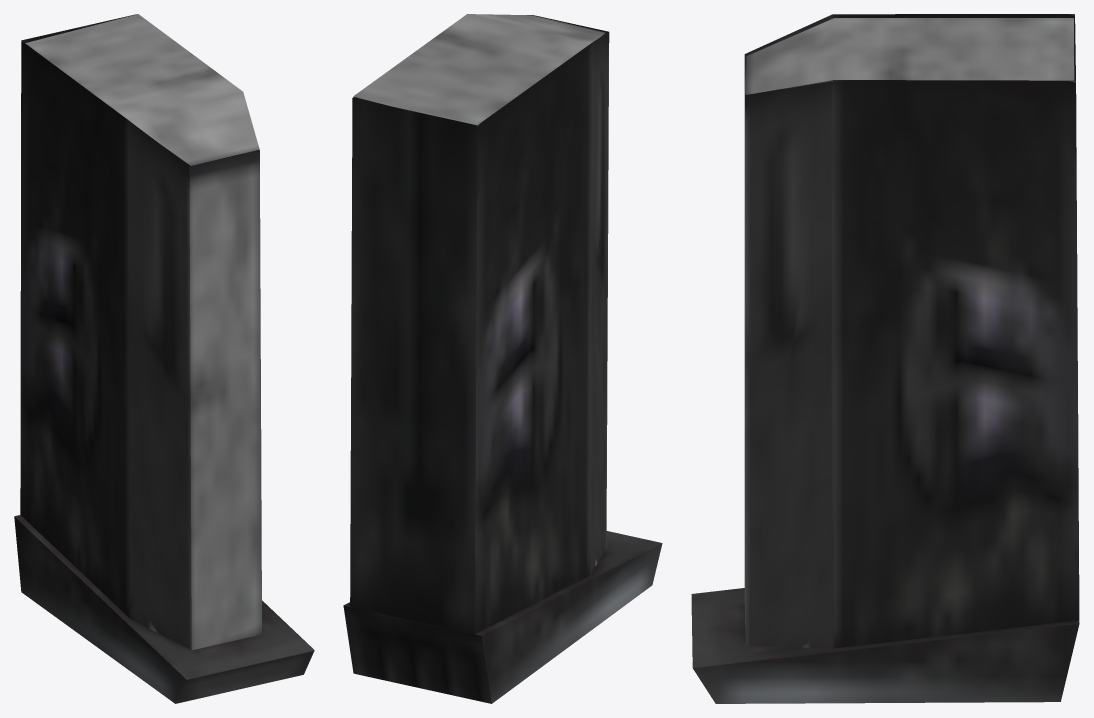
File: gaussammo.obj
The picture shows the model from 3 angles, left to right: view 1: azimuth 30°, elevation 25°; view 2: azimuth 150°, elevation 25°; view 3: azimuth 270°, elevation 25°; orthographic projection. The views are drawn at different scales.
Parts seen in each view (by area): view 1: gauss_ptl; view 2: gauss_ptl; view 3: gauss_ptl.
Boxes of the visible parts, bbox=[...] form: gauss_ptl: bbox=[14, 14, 314, 703]; gauss_ptl: bbox=[343, 14, 662, 703]; gauss_ptl: bbox=[691, 14, 1079, 703].
Bounding box in the file's own units: 15.06 × 60.02 × 33.96.
